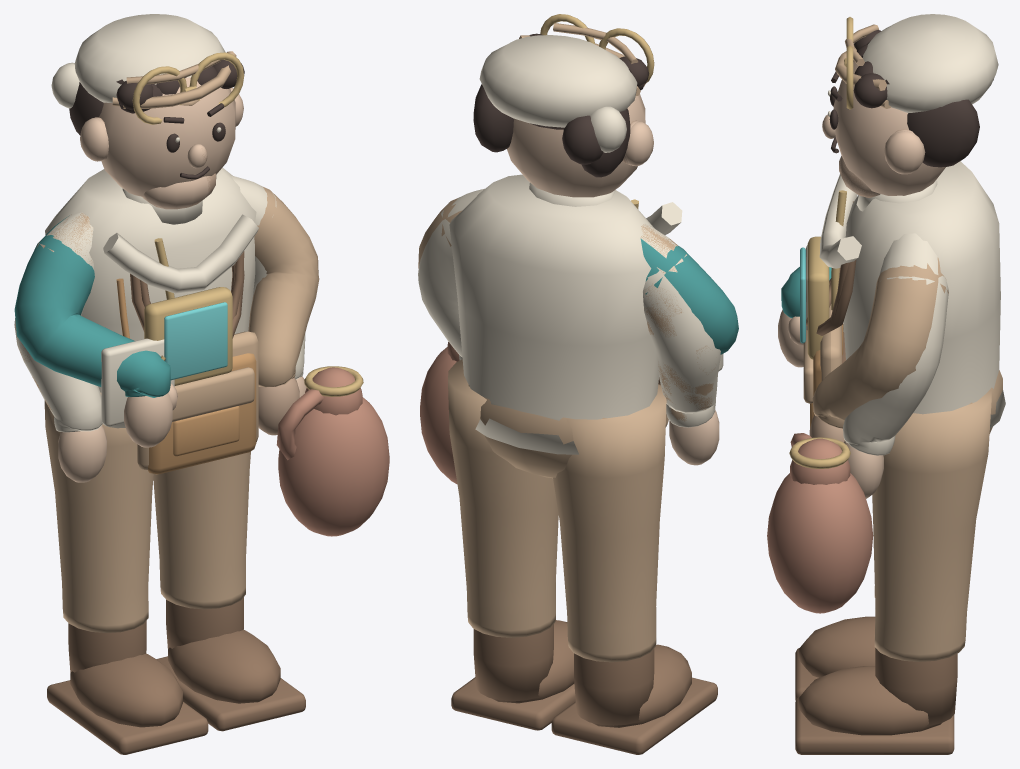
The model's file is world10-travelers-v1.glb.
3 views of the same model, side by side, from view 1: azimuth 30°, elevation 25°; view 2: azimuth 150°, elevation 25°; view 3: azimuth 270°, elevation 25° (orthographic). The views are drawn at different scales.
Parts seen in each view (by area): view 1: desert-cartographer-sand, desert-cartographer-leather, desert-cartographer-body-ivory, desert-water-carrier-right-arm-clay, desert-cartographer-head-skin-light, single-soft-cloth-sleeve-L.002, single-soft-cloth-sleeve-R.001, desert-cartographer-head-ivory, desert-cartographer-left-arm-ivory, desert-water-carrier-body-ivory, opaque-cut-aqua-glass, desert-cartographer-body-ochre (+17 smaller); view 2: desert-cartographer-sand, desert-cartographer-body-ivory, desert-cartographer-leather, desert-cartographer-head-ivory, desert-cartographer-left-arm-ivory, desert-cartographer-head-skin-light, single-soft-cloth-sleeve-L.002, single-soft-cloth-sleeve-R, desert-water-carrier-right-arm-clay, desert-glass-artisan-head-hair-dark, single-soft-cloth-sleeve-L.001, desert-water-carrier-head-hair-dark (+5 smaller); view 3: desert-cartographer-sand, desert-cartographer-body-ivory, desert-cartographer-leather, desert-water-carrier-right-arm-clay, single-soft-cloth-sleeve-R.001, desert-cartographer-head-ivory, desert-cartographer-head-skin-light, single-soft-cloth-sleeve-R, desert-glass-artisan-head-hair-dark, brass-rimmed-glass-sample, desert-water-carrier-body-ivory, desert-water-carrier-head-hair-dark (+14 smaller).
Part boxes in pixels (x1,y1,x2,y2): desert-cartographer-sand: [44, 392, 250, 632]; desert-cartographer-leather: [47, 597, 305, 754]; desert-cartographer-body-ivory: [45, 167, 256, 428]; desert-water-carrier-right-arm-clay: [276, 367, 389, 536]; desert-cartographer-head-skin-light: [80, 77, 243, 209]; single-soft-cloth-sleeve-L.002: [14, 215, 170, 397]; single-soft-cloth-sleeve-R.001: [248, 187, 319, 387]; desert-cartographer-head-ivory: [51, 14, 225, 142]; desert-cartographer-left-arm-ivory: [14, 212, 174, 432]; desert-water-carrier-body-ivory: [103, 214, 258, 293]; opaque-cut-aqua-glass: [164, 302, 227, 380]; desert-cartographer-body-ochre: [116, 278, 256, 474]; desert-cartographer-sand: [448, 359, 666, 662]; desert-cartographer-body-ivory: [449, 174, 658, 454]; desert-cartographer-leather: [451, 620, 717, 754]; desert-cartographer-head-ivory: [479, 35, 637, 152]; desert-cartographer-left-arm-ivory: [640, 223, 723, 427]; desert-cartographer-head-skin-light: [507, 94, 653, 197]; single-soft-cloth-sleeve-L.002: [640, 238, 738, 354]; single-soft-cloth-sleeve-R: [418, 188, 484, 360]; desert-water-carrier-right-arm-clay: [420, 342, 459, 483]; desert-glass-artisan-head-hair-dark: [473, 83, 644, 177]; single-soft-cloth-sleeve-L.001: [640, 224, 715, 421]; desert-water-carrier-head-hair-dark: [529, 33, 649, 164]; desert-cartographer-sand: [872, 370, 1002, 661]; desert-cartographer-body-ivory: [843, 161, 1005, 428]; desert-cartographer-leather: [795, 616, 957, 754]; desert-water-carrier-right-arm-clay: [767, 433, 873, 613]; single-soft-cloth-sleeve-R.001: [812, 257, 948, 428]; desert-cartographer-head-ivory: [828, 14, 998, 116]; desert-cartographer-head-skin-light: [822, 60, 945, 195]; single-soft-cloth-sleeve-R: [843, 233, 948, 455]; desert-glass-artisan-head-hair-dark: [857, 44, 979, 167]; brass-rimmed-glass-sample: [807, 236, 829, 359]; desert-water-carrier-body-ivory: [819, 174, 861, 268]; desert-water-carrier-head-hair-dark: [853, 30, 993, 108].
Bounding box in the file's own units: 1.19 × 2.26 × 0.72.
